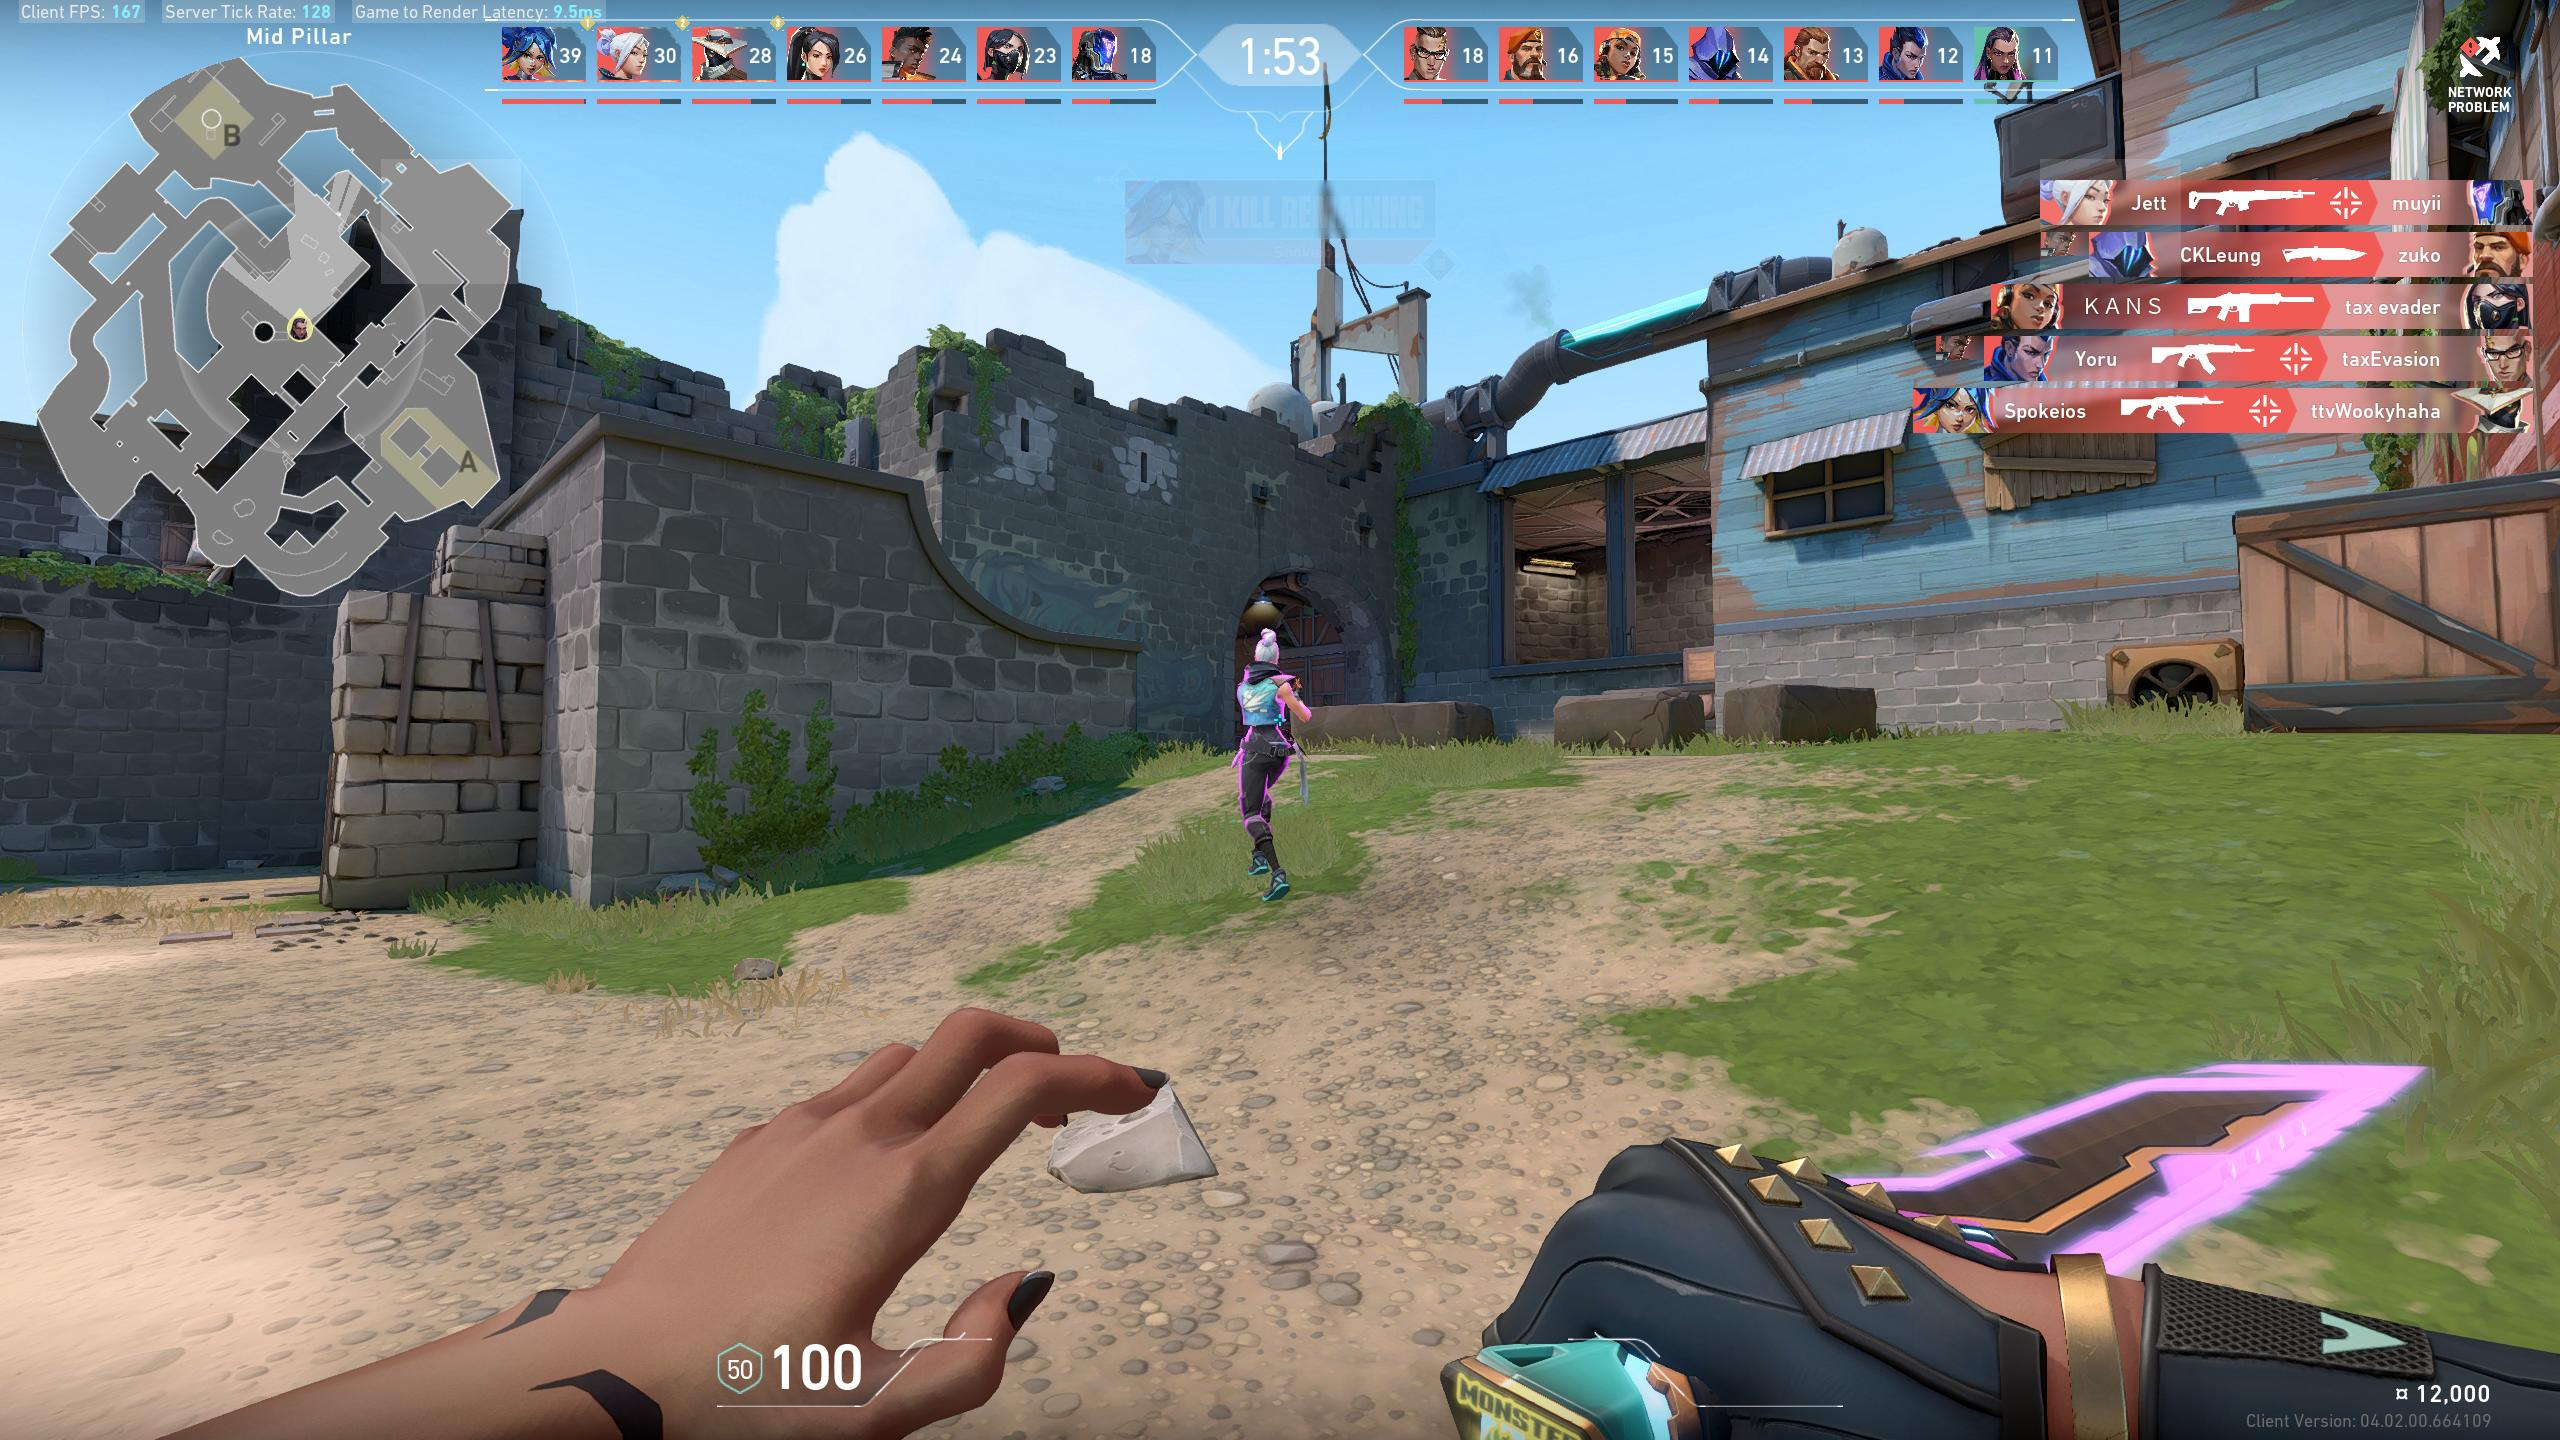enemyBody: (1243, 673, 1276, 716)
enemyHead: (1255, 644, 1275, 663)
